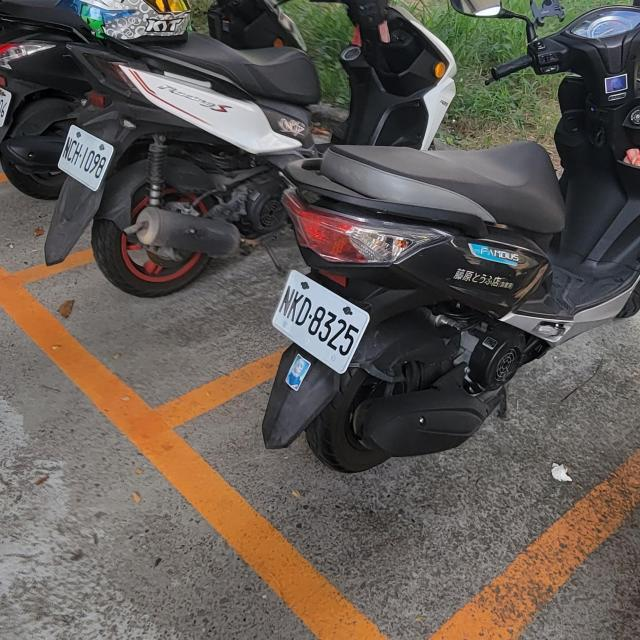W: (266, 264, 374, 378), (56, 121, 116, 193), (0, 72, 13, 126)
